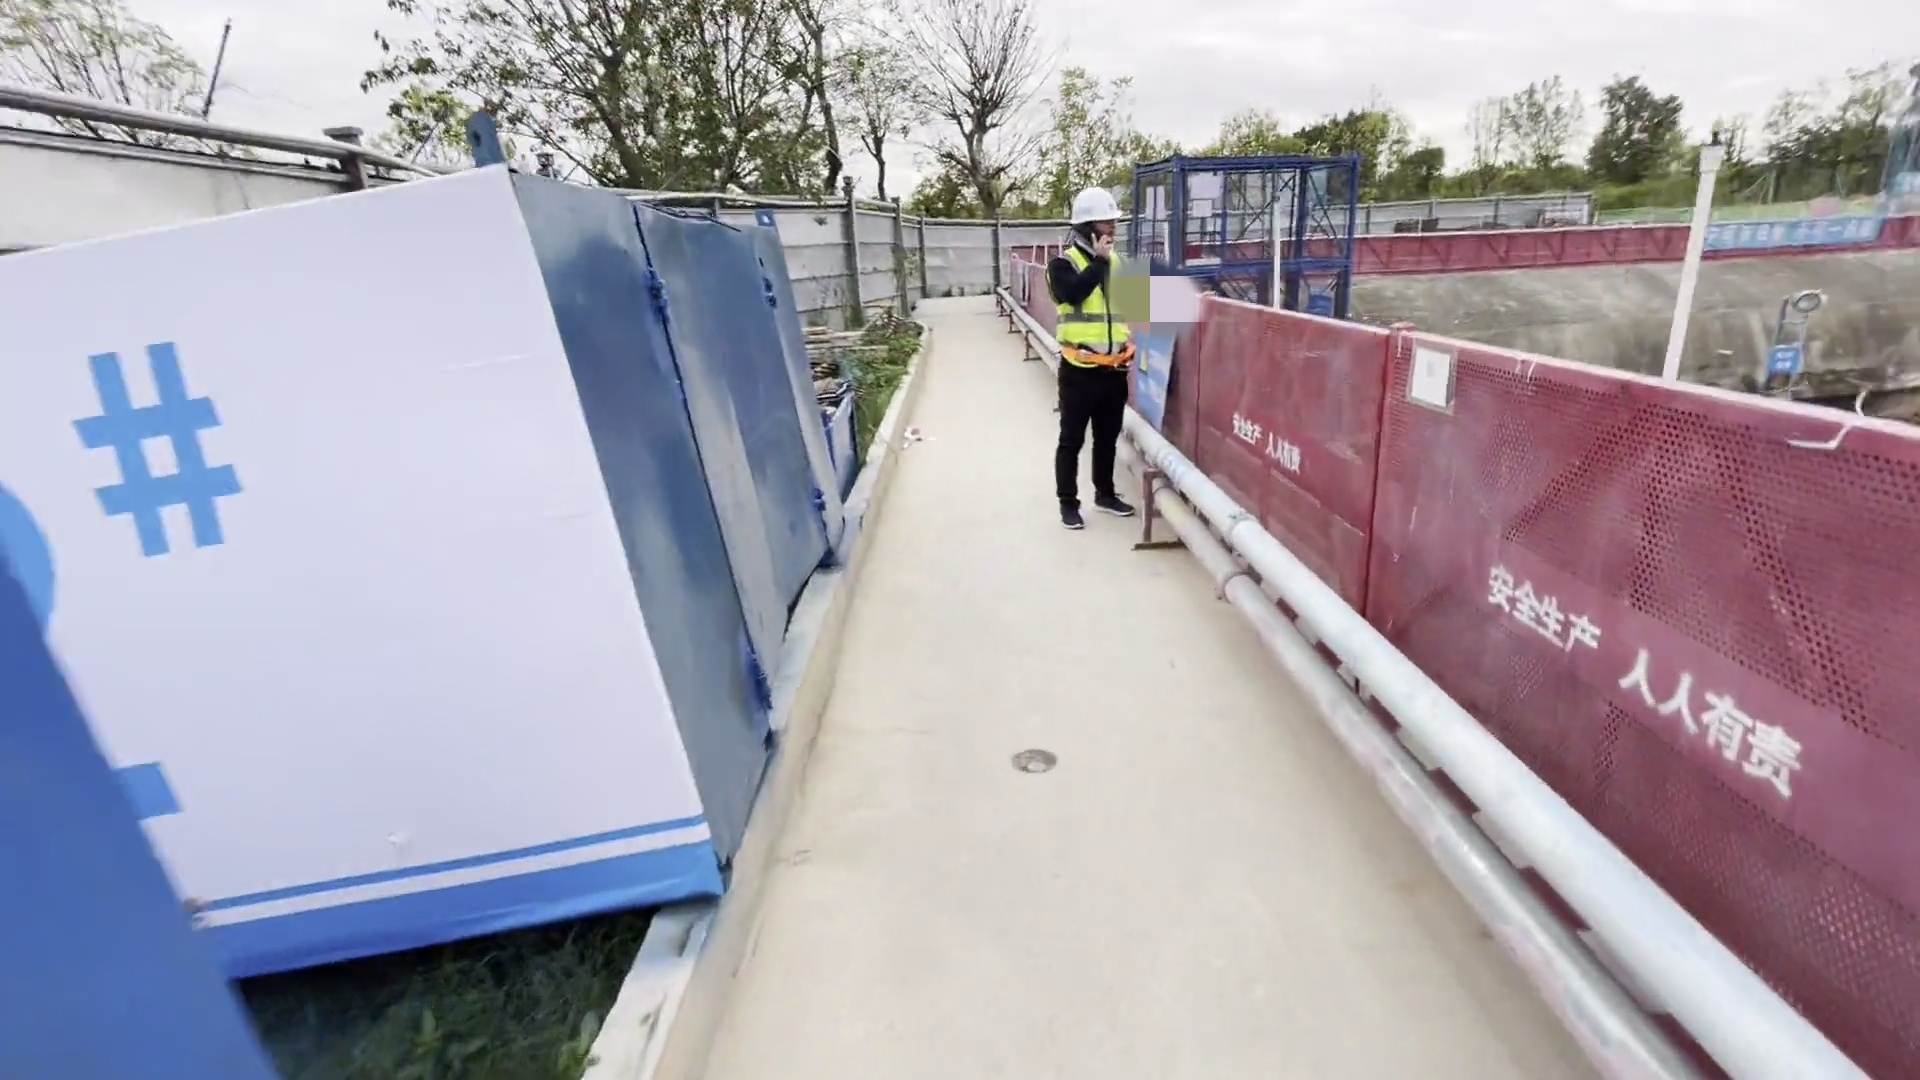fence: (849, 120, 1915, 1070)
helmet: (1066, 174, 1127, 234)
person: (1039, 177, 1158, 550)
slogan: (1710, 211, 1877, 256)
vest: (1049, 250, 1151, 377)
